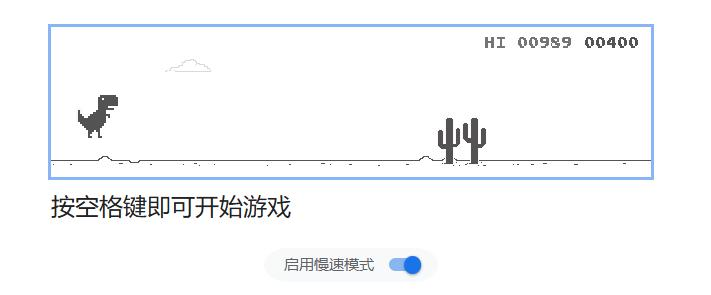cactus: (432, 116, 489, 168)
dino: (74, 94, 120, 140)
